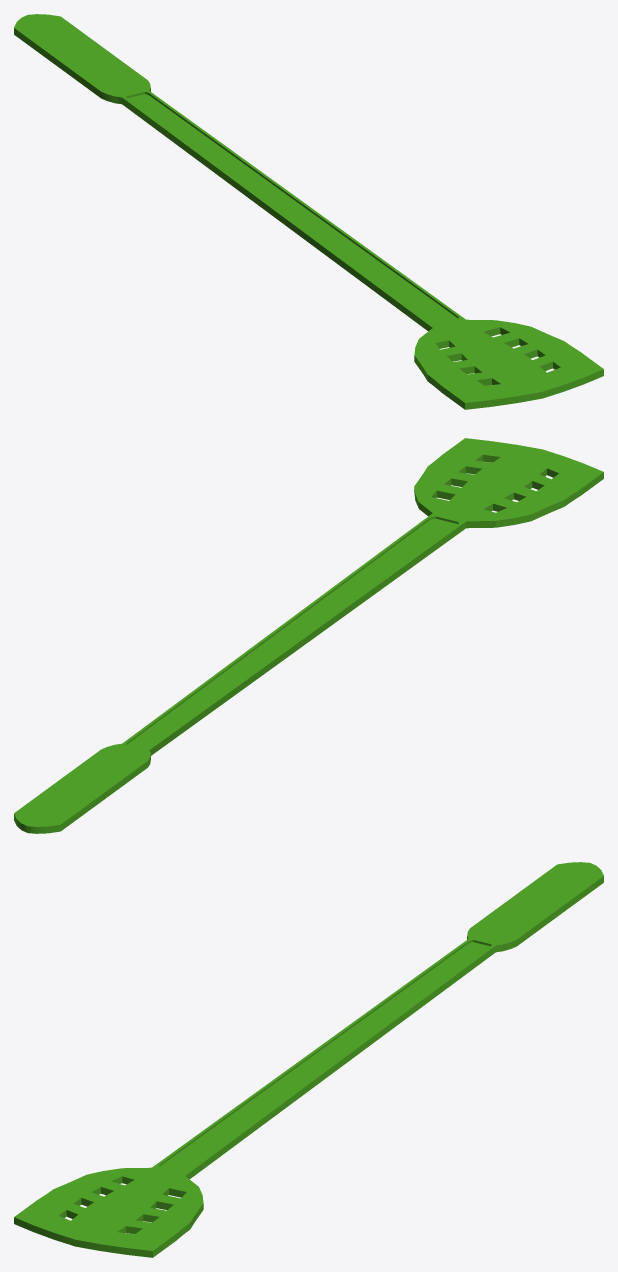
File: FlyTrap.FBX
3 renders of one model, top to bottom at view 1: azimuth 30°, elevation 25°; view 2: azimuth 150°, elevation 25°; view 3: azimuth 330°, elevation 25°, orthographic.
Visible parts, largest first — view 1: FlyTrap; view 2: FlyTrap; view 3: FlyTrap.
Part boxes in pixels (x1,y1,x2,y2): FlyTrap: [14, 14, 603, 409]; FlyTrap: [14, 438, 603, 833]; FlyTrap: [14, 862, 603, 1257].
Bounding box in the file's own units: 9.5 × 0.4487 × 60.97.
